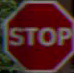Stop: (6, 12, 71, 58)
